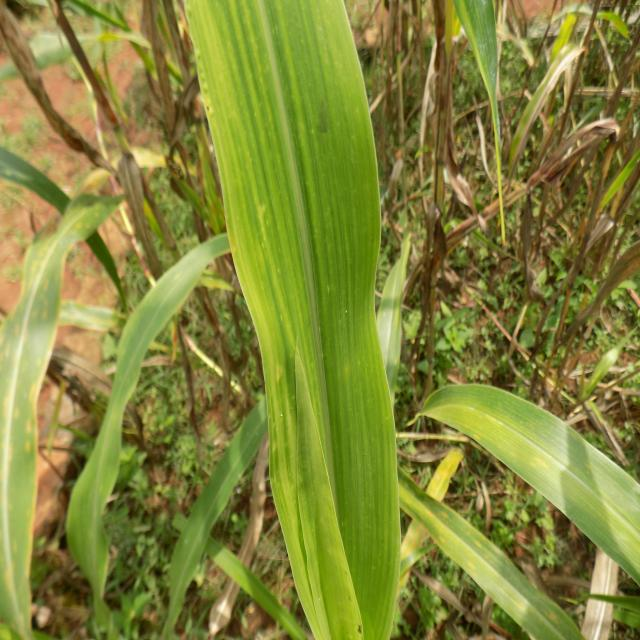millet_healthy: (172, 0, 404, 640)
